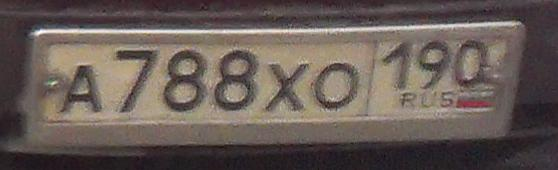license-plateSW: (40, 31, 505, 126)
